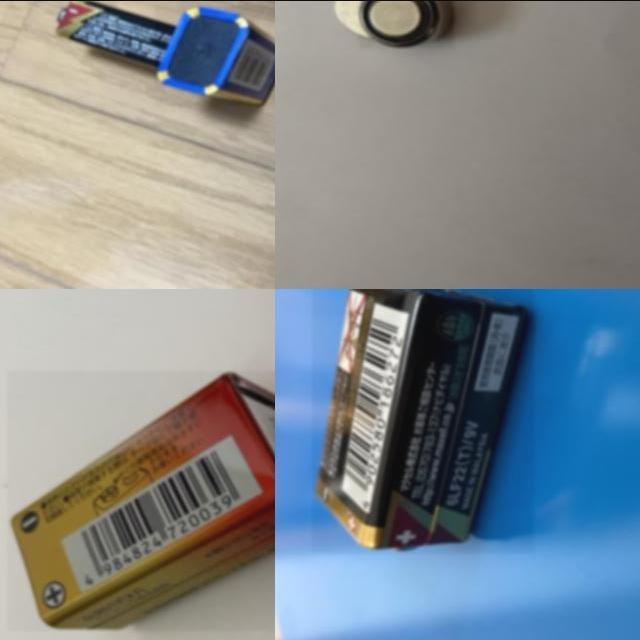9V: (7, 370, 275, 630), (312, 288, 533, 553), (155, 5, 275, 105), (53, 0, 178, 71)
